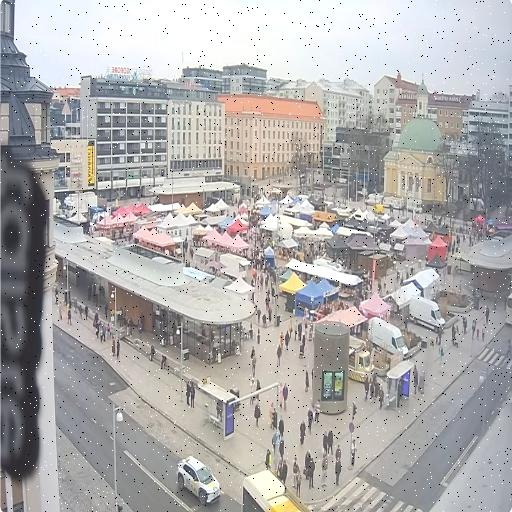Bus: (241, 470, 308, 511)
Car: (175, 456, 219, 505)
Delivery: (368, 318, 407, 358), (408, 297, 444, 332), (348, 337, 373, 382)
